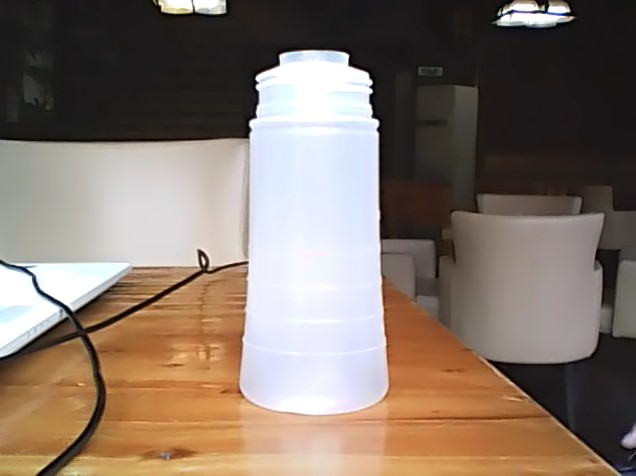Plastic: (230, 49, 400, 419)
